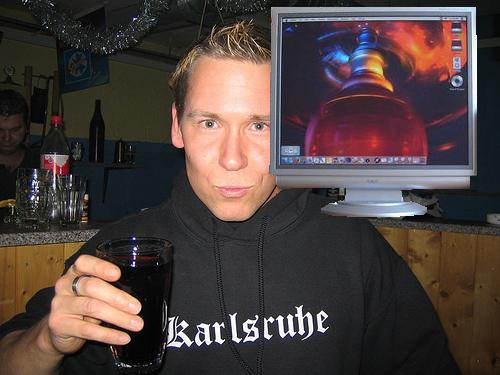tampered: (270, 8, 477, 217)
